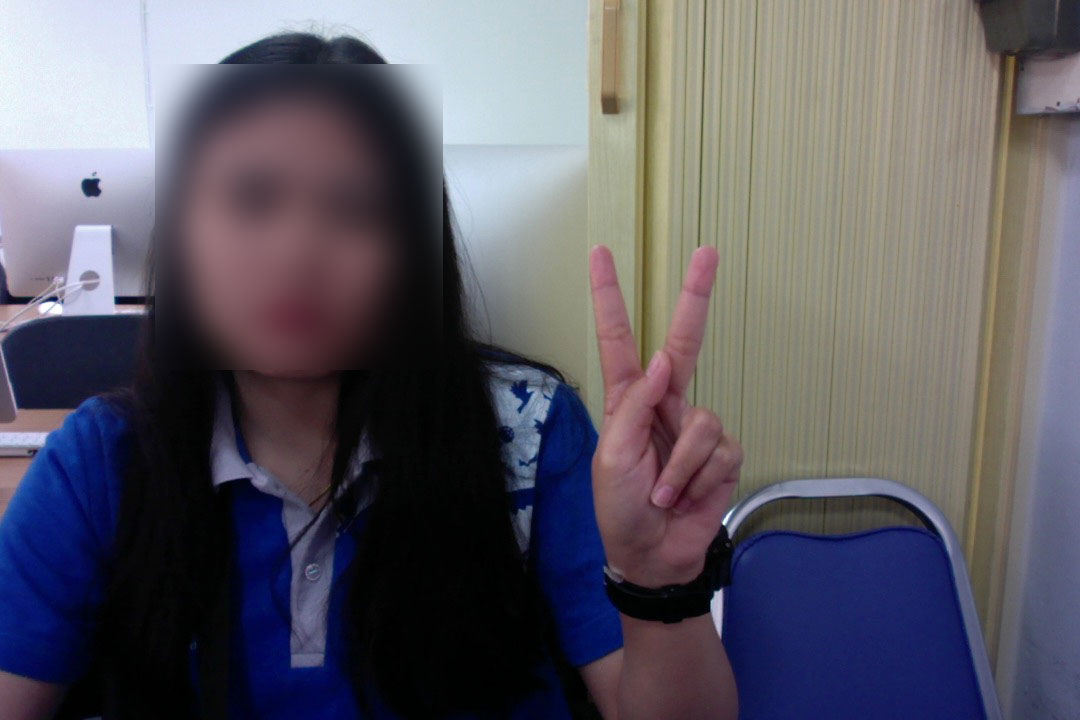ko: (565, 225, 758, 611)
